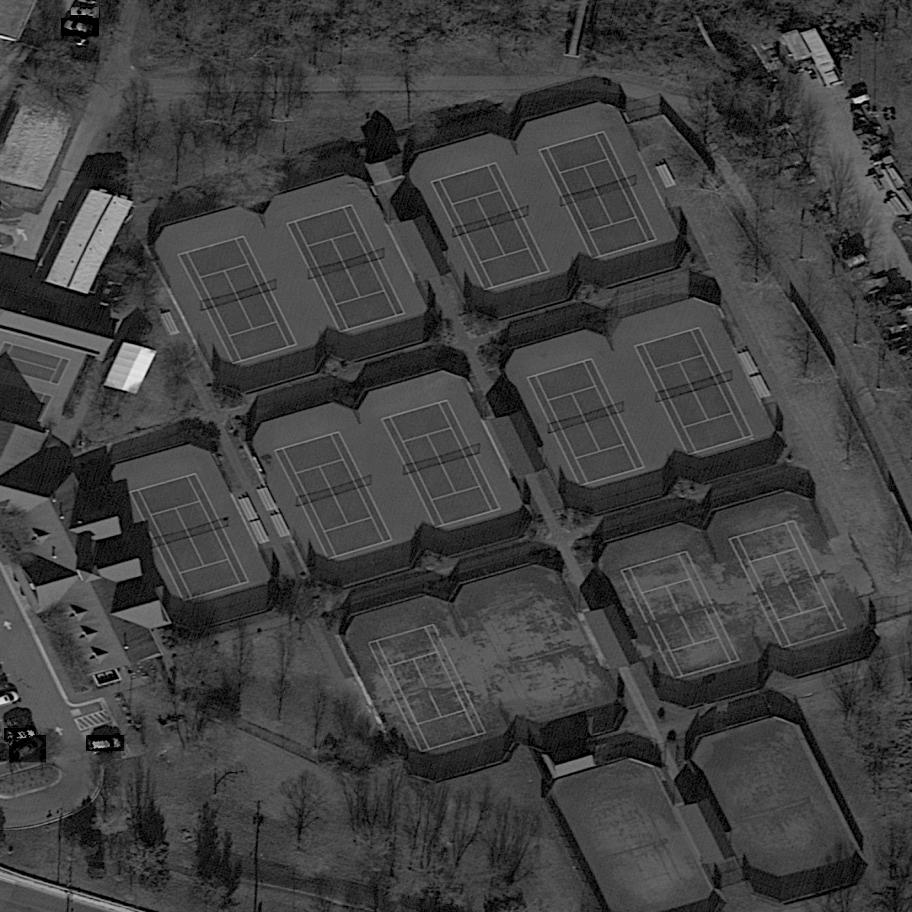small-vehicle: (10, 735, 47, 766), (62, 17, 99, 37), (86, 736, 124, 753), (4, 729, 36, 742), (71, 7, 99, 18)
